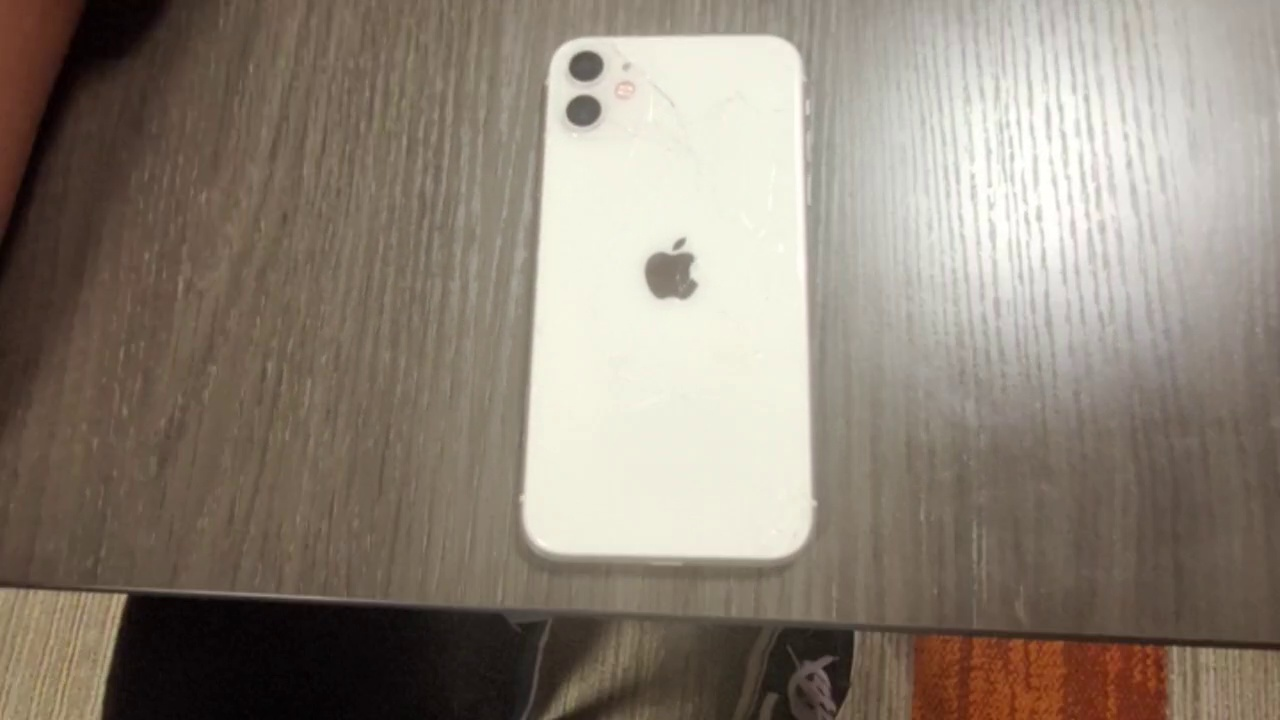celular: (523, 32, 817, 570)
